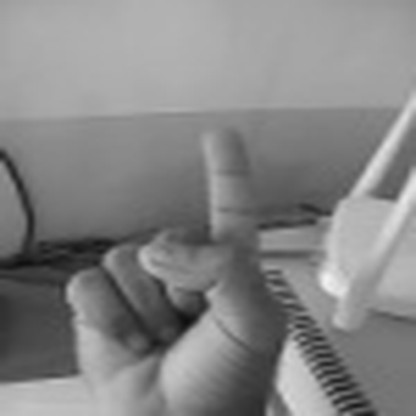d: (66, 112, 288, 416)
